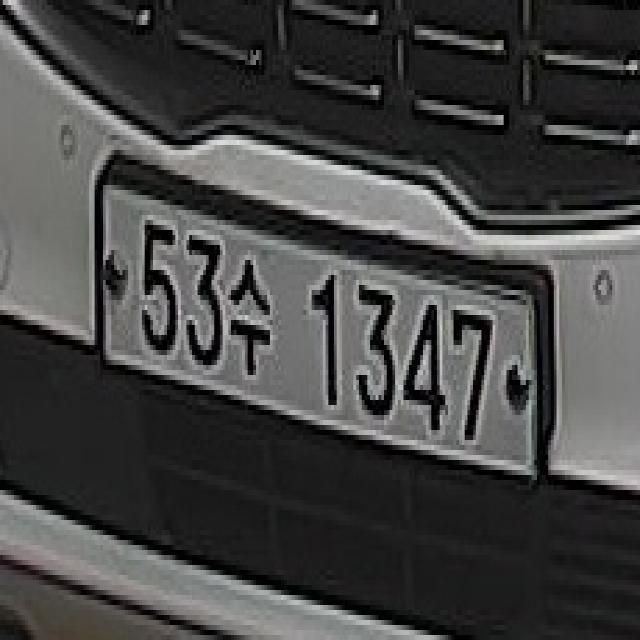1: (306, 256, 349, 430)
3: (351, 272, 403, 430), (184, 226, 226, 380)
4: (402, 295, 450, 443)
5: (137, 209, 180, 370)
7: (449, 296, 497, 457)
license_plate: (80, 133, 568, 518)
su: (225, 255, 275, 388)
